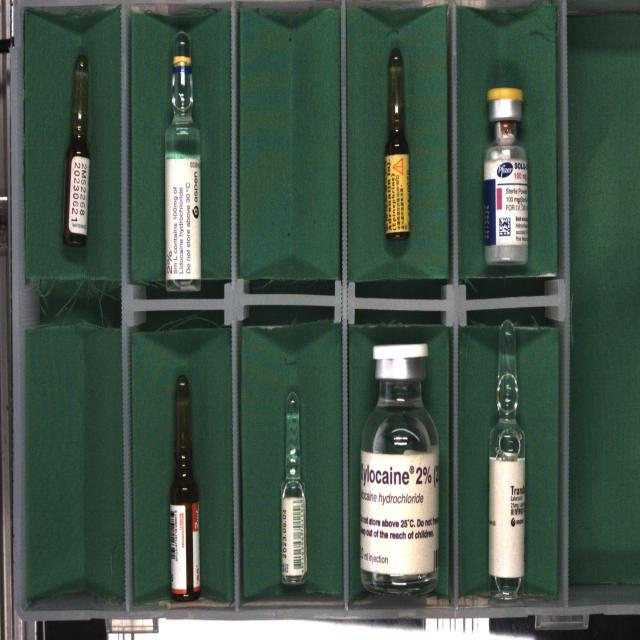Vials: (360, 343, 439, 593), (484, 87, 529, 265)
